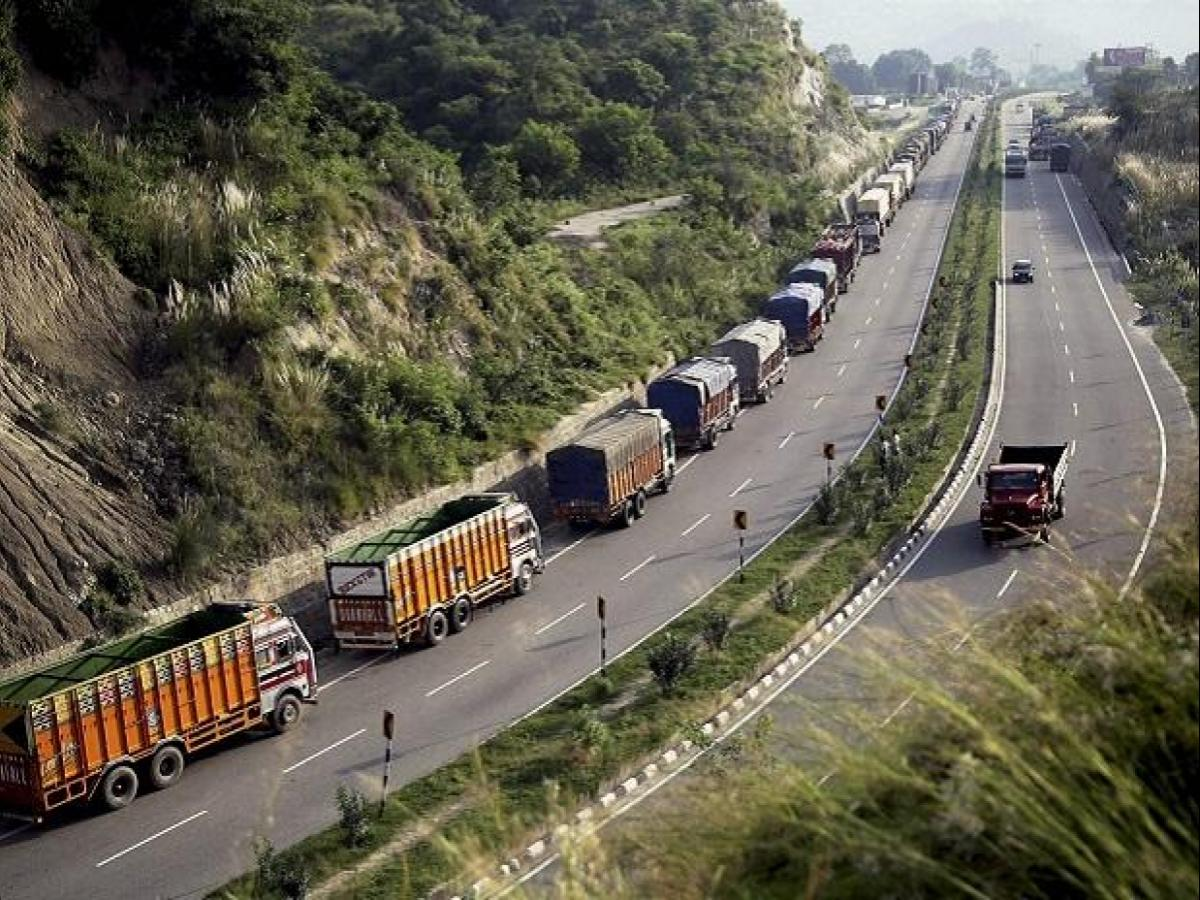bus: (1006, 149, 1029, 177)
car: (1013, 260, 1035, 282)
left turn: (596, 595, 608, 623), (733, 508, 748, 530), (384, 710, 394, 739), (875, 393, 886, 414), (824, 441, 835, 461), (904, 352, 914, 368), (920, 324, 930, 337), (931, 296, 939, 311), (938, 275, 947, 287)
truck: (19, 605, 303, 805), (329, 490, 530, 655), (546, 407, 674, 528), (980, 463, 1054, 546), (658, 366, 740, 438), (723, 328, 788, 397), (771, 291, 826, 347), (819, 227, 857, 281), (856, 188, 888, 249), (1048, 146, 1073, 176)
